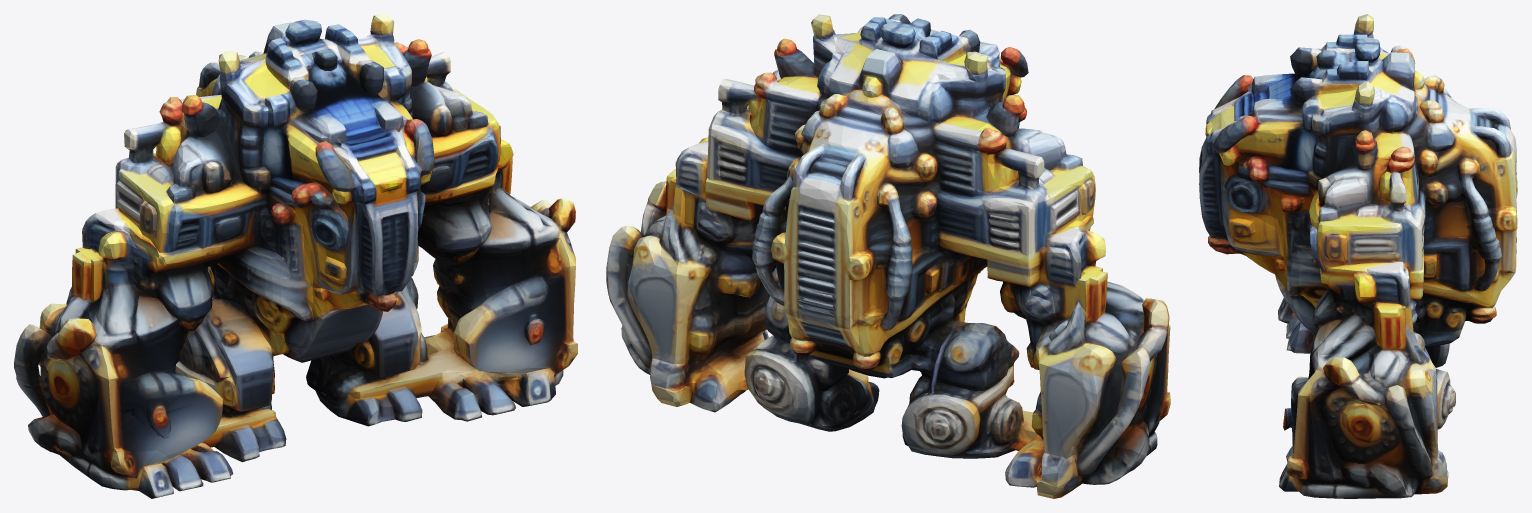
The picture shows the model from 3 angles, left to right: view 1: azimuth 30°, elevation 25°; view 2: azimuth 150°, elevation 25°; view 3: azimuth 270°, elevation 25°; orthographic projection. The views are drawn at different scales.
Visible parts, largest first — view 1: world; view 2: world; view 3: world.
Boxes of the visible parts, left/top/right/bottom form: world: left=14, top=14, right=577, bottom=498; world: left=606, top=14, right=1170, bottom=498; world: left=1199, top=14, right=1517, bottom=498.
Size of the model in its own units: 1 by 0.7096 by 0.5651.
1 material, 1 textured.
